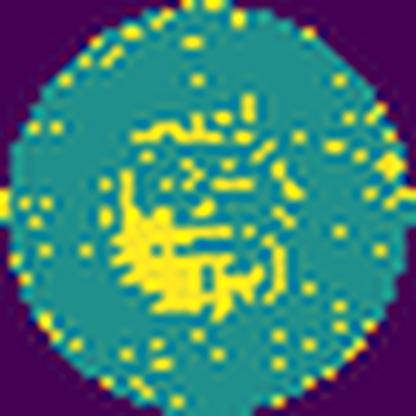Loc: (108, 165, 264, 325)
